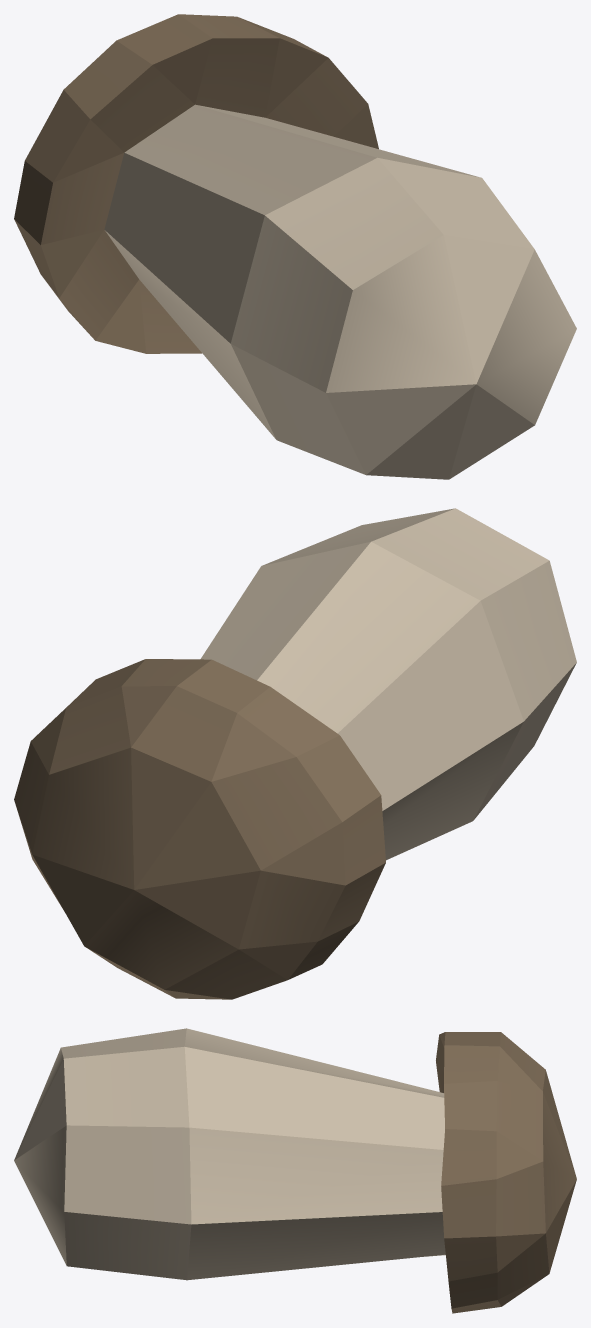
File: Boletus_2.fbx
3 renders of one model, top to bottom at view 1: azimuth 30°, elevation 25°; view 2: azimuth 150°, elevation 25°; view 3: azimuth 270°, elevation 25°, orthographic. The views are drawn at different scales.
Visible parts, largest first — view 1: Group10226; view 2: Group10226; view 3: Group10226.
Boxes of the visible parts, box(x1,y1,x2,y2) form: Group10226: box(14, 14, 576, 479); Group10226: box(14, 508, 576, 999); Group10226: box(14, 1028, 576, 1313).
Size of the model in its own units: 31.92 by 28.39 by 56.99.
